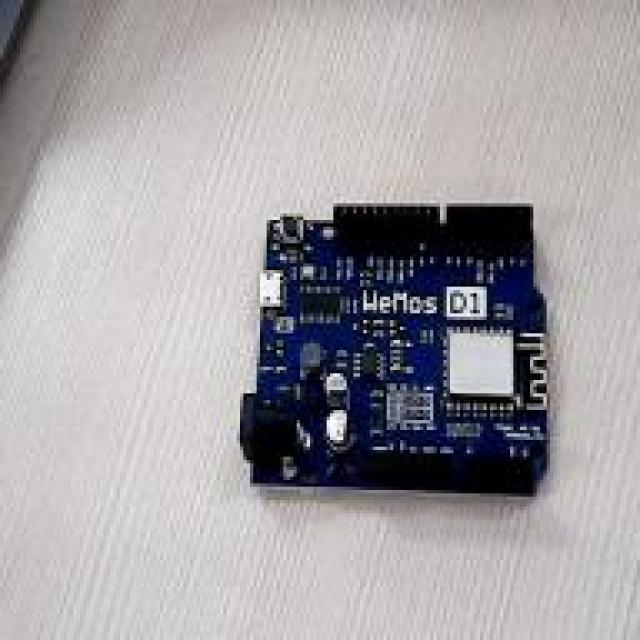Wemos: (241, 204, 548, 494)
